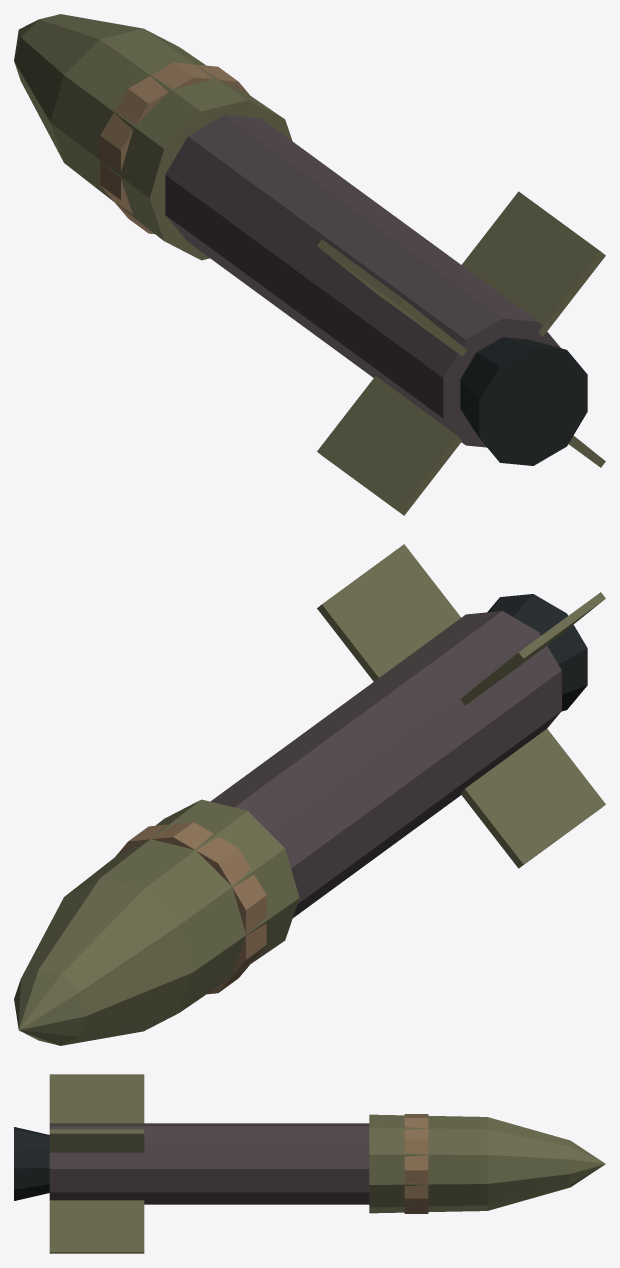
Rendered from racheta.glb.
3 renders of one model, top to bottom at view 1: azimuth 30°, elevation 25°; view 2: azimuth 150°, elevation 25°; view 3: azimuth 270°, elevation 25°, orthographic. The views are drawn at different scales.
Parts seen in each view (by area): view 1: Racheta; view 2: Racheta; view 3: Racheta.
Part boxes in pixels (x1,y1,x2,y2): Racheta: (14,14,605,515); Racheta: (14,544,605,1045); Racheta: (14,1074,605,1253).
Size of the model in its own units: 0.116 by 0.116 by 0.5.
